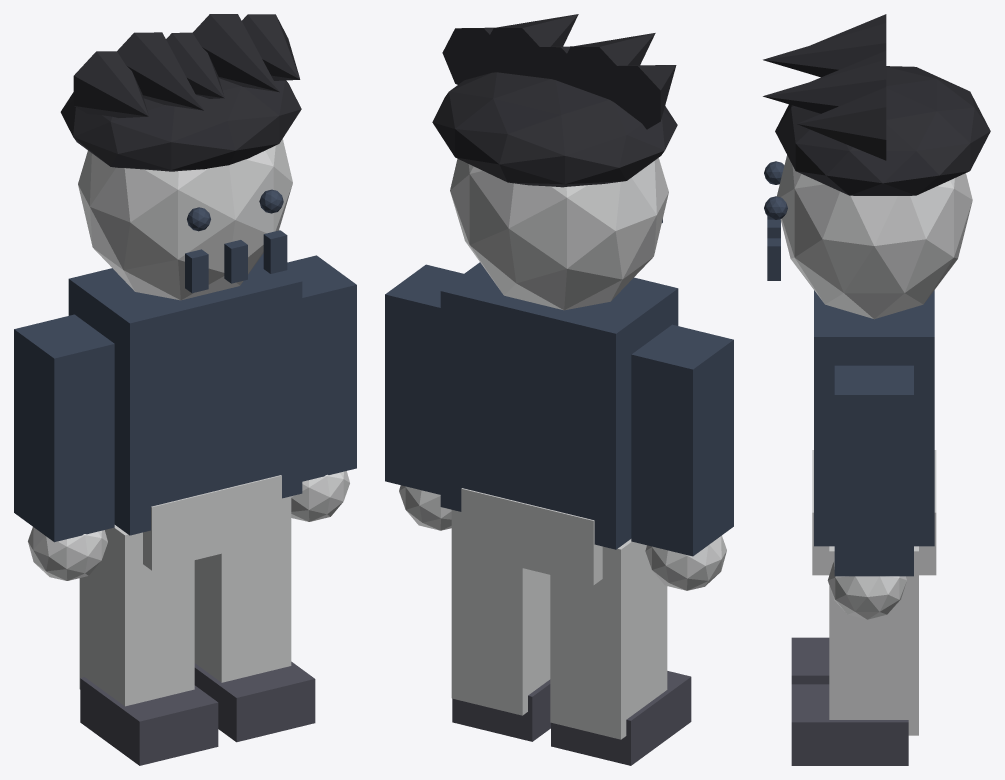
Rendered from brook.glb.
The picture shows the model from 3 angles, left to right: view 1: azimuth 30°, elevation 25°; view 2: azimuth 150°, elevation 25°; view 3: azimuth 270°, elevation 25°; orthographic projection. The views are drawn at different scales.
Visible parts, largest first — view 1: part_000, part_002, part_010, part_004, part_013, part_008, part_006, part_001, part_005, part_009, part_014, part_015 (+8 smaller); view 2: part_000, part_010, part_002, part_013, part_004, part_008, part_006, part_001, part_005, part_015, part_014, part_017 (+5 smaller); view 3: part_010, part_006, part_013, part_000, part_008, part_009, part_018, part_015, part_017, part_007, part_005, part_001 (+2 smaller).
Part boxes in pixels (box(x1,y1,x2,y2)): part_000: box(68, 253, 302, 535); part_002: box(14, 314, 114, 542); part_010: box(78, 139, 292, 300); part_004: box(79, 525, 194, 706); part_013: box(60, 78, 301, 171); part_008: box(194, 496, 291, 682); part_006: box(287, 255, 356, 481); part_001: box(143, 475, 281, 570); part_005: box(80, 677, 218, 765); part_009: box(194, 661, 315, 742); part_014: box(73, 51, 148, 117); part_015: box(117, 32, 203, 110); part_000: box(440, 262, 678, 549); part_010: box(450, 158, 668, 310); part_002: box(631, 324, 733, 556); part_013: box(432, 72, 677, 187); part_004: box(550, 539, 667, 739); part_008: box(451, 510, 550, 715); part_006: box(385, 264, 463, 494); part_001: box(461, 488, 602, 585); part_005: box(551, 671, 691, 765); part_015: box(558, 33, 655, 103); part_014: box(596, 65, 676, 129); part_017: box(481, 14, 578, 77); part_010: box(777, 155, 972, 319); part_006: box(834, 365, 913, 576); part_013: box(775, 66, 990, 195); part_000: box(814, 290, 934, 546); part_008: box(829, 546, 918, 735); part_009: box(791, 684, 908, 765); part_018: box(797, 87, 886, 160); part_015: box(763, 23, 886, 77); part_017: box(763, 59, 886, 113); part_007: box(827, 561, 906, 619); part_005: box(791, 637, 829, 684); part_001: box(812, 450, 936, 575).
Bounding box in the file's own units: 1.03 × 2.17 × 0.6628.
